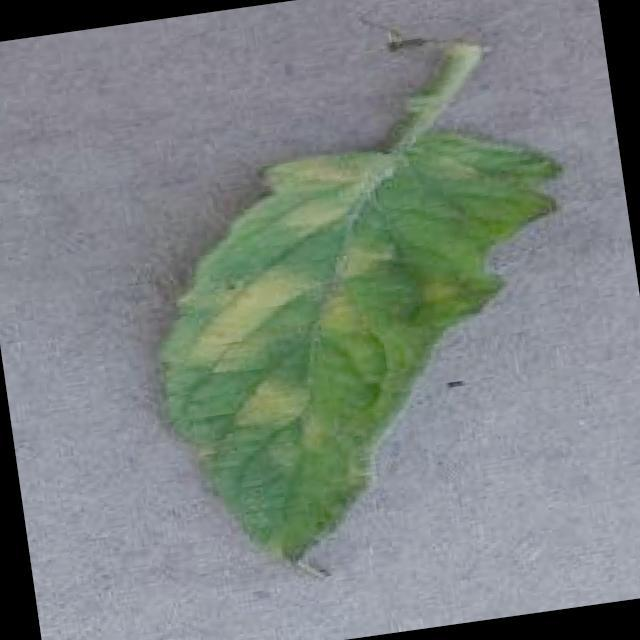Tomato mold leaf: (130, 121, 612, 603)
